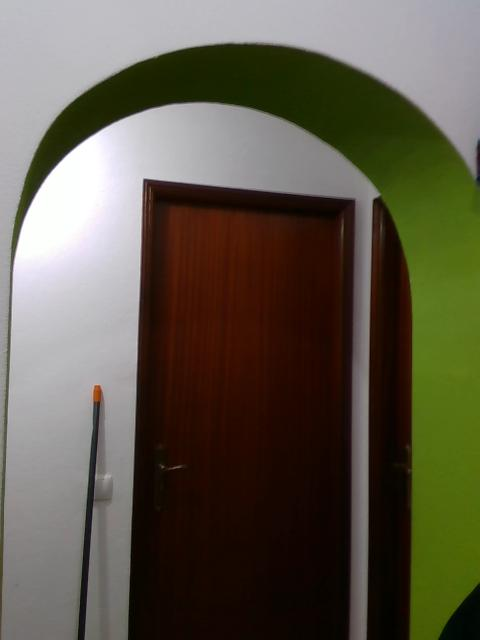door: (153, 199, 342, 636)
